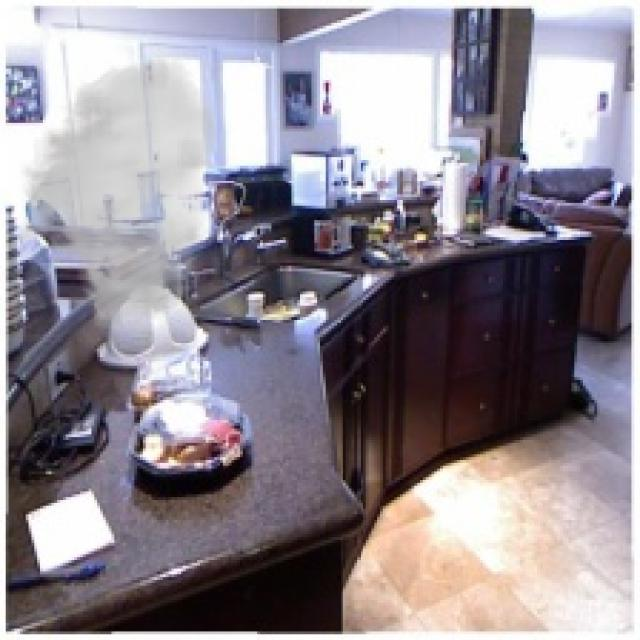Smoke: (14, 52, 220, 334)
